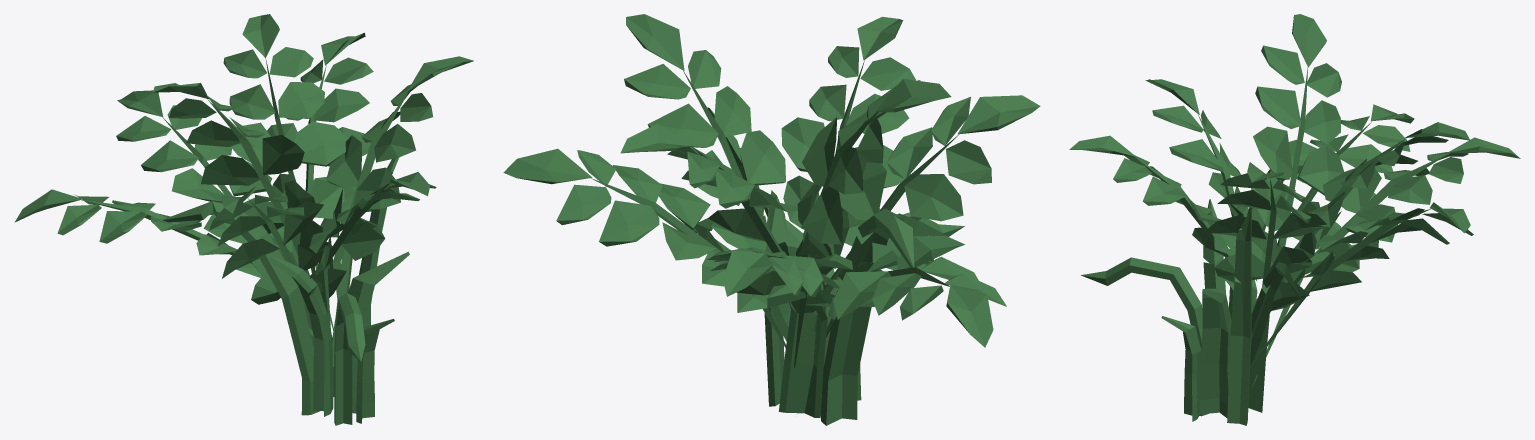
Rendered from Grass.fbx.
The picture shows the model from 3 angles, left to right: view 1: azimuth 30°, elevation 25°; view 2: azimuth 150°, elevation 25°; view 3: azimuth 270°, elevation 25°; orthographic projection. The views are drawn at different scales.
Visible parts, largest first — view 1: Grass_1, Grass_2; view 2: Grass_1, Grass_2; view 3: Grass_1, Grass_2.
Part boxes in pixels (x1,y1,x2,y2): Grass_1: (14, 14, 473, 336); Grass_2: (162, 157, 409, 425); Grass_1: (503, 14, 1040, 414); Grass_2: (693, 107, 964, 425); Grass_1: (1069, 14, 1520, 388); Grass_2: (1081, 158, 1378, 425).
Size of the model in its own units: 169 by 142 by 174.
